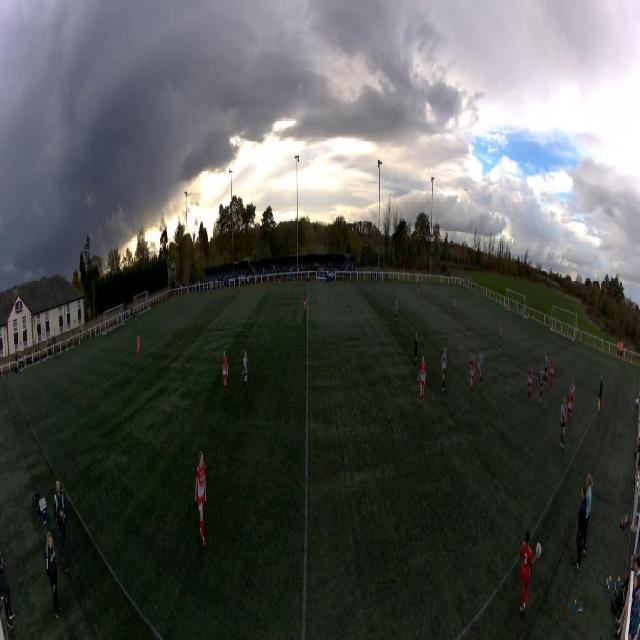player: (194, 451, 207, 548), (418, 355, 426, 407), (560, 396, 567, 447), (222, 350, 228, 399), (441, 345, 447, 393), (242, 348, 248, 393), (568, 383, 574, 427), (478, 348, 484, 390), (538, 363, 544, 405), (470, 354, 475, 396), (527, 363, 532, 403), (548, 357, 554, 389), (543, 353, 549, 385), (414, 331, 419, 369), (570, 378, 575, 405), (394, 297, 399, 322), (137, 335, 141, 362), (303, 295, 307, 316), (453, 298, 457, 319), (499, 322, 502, 350), (417, 283, 420, 299), (514, 303, 516, 319)
